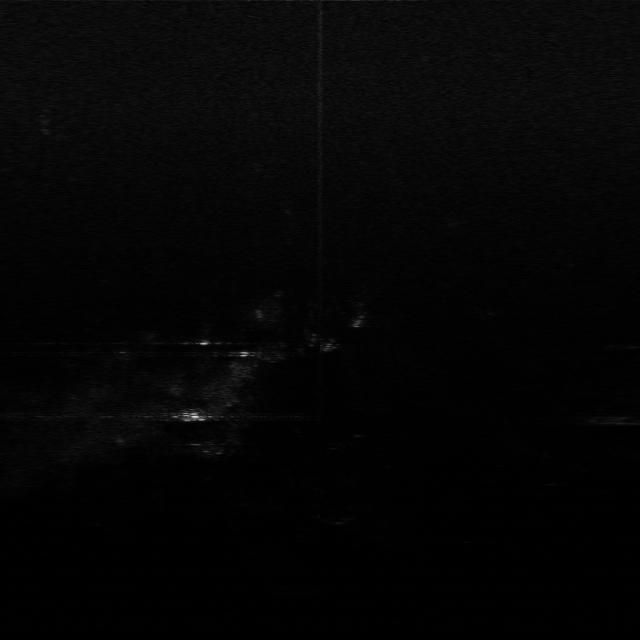rov: (173, 403, 213, 428)
